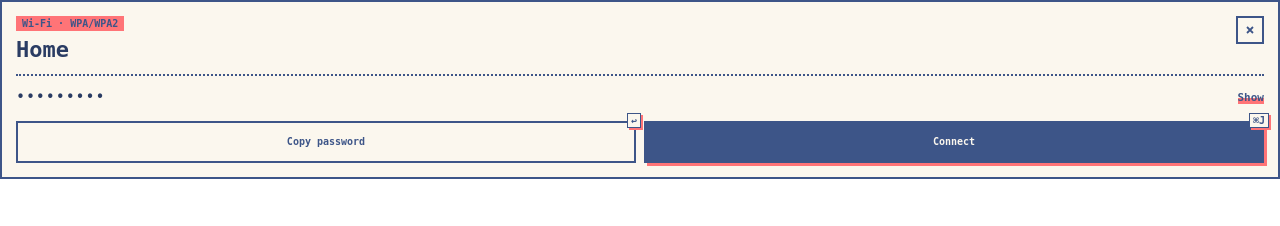
Test: WifiCard › connects only when Connect is clicked, and says when it worked
This screenshot has width=1280, height=226.
Click the button "Connect": (954, 142) [644,121,1264,163]
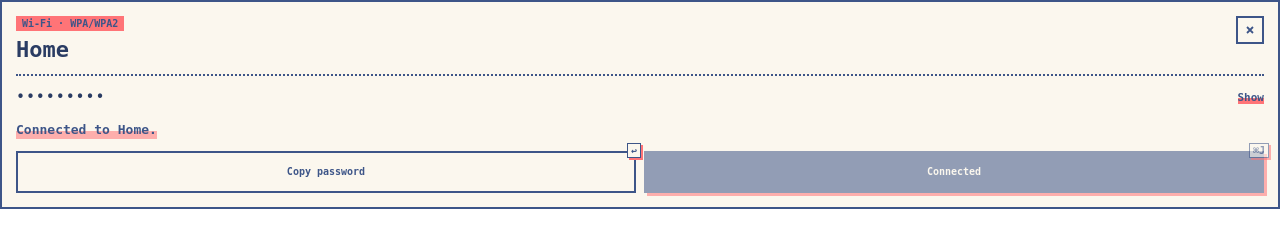
Now the text "Connected to Home." is shown, box [16,121,157,139]
Now the button "Connected" is disabled, box [644,151,1264,193]
